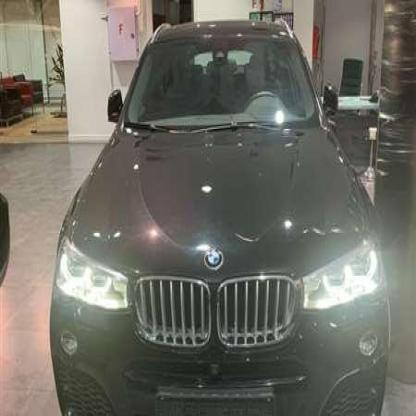Car: (50, 14, 393, 416)
